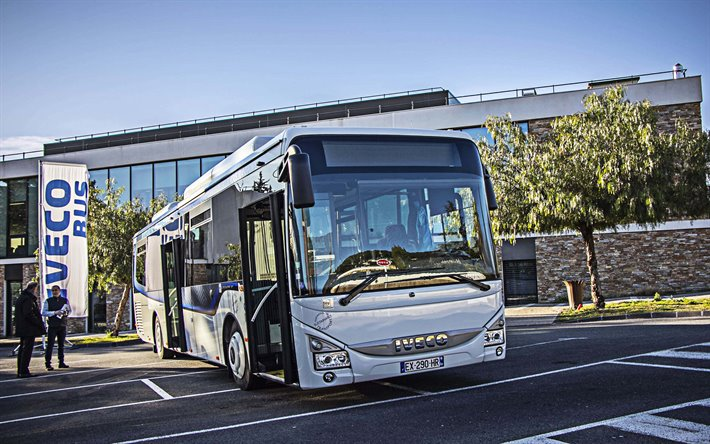bus: (126, 126, 507, 394)
